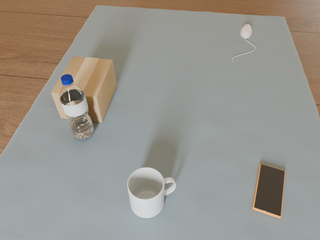bottle: (59, 74, 94, 140)
box: (51, 57, 116, 122)
cup: (127, 168, 176, 218)
mouse: (240, 24, 252, 38)
phone: (252, 164, 285, 219)
